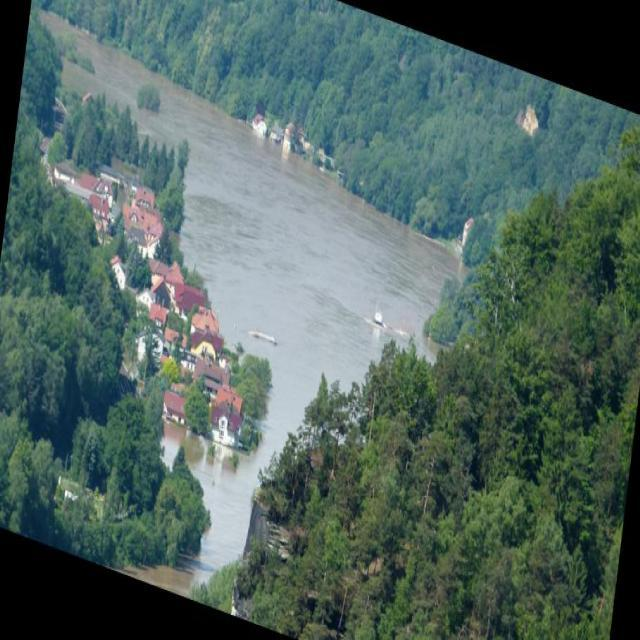flood: (152, 98, 451, 484)
